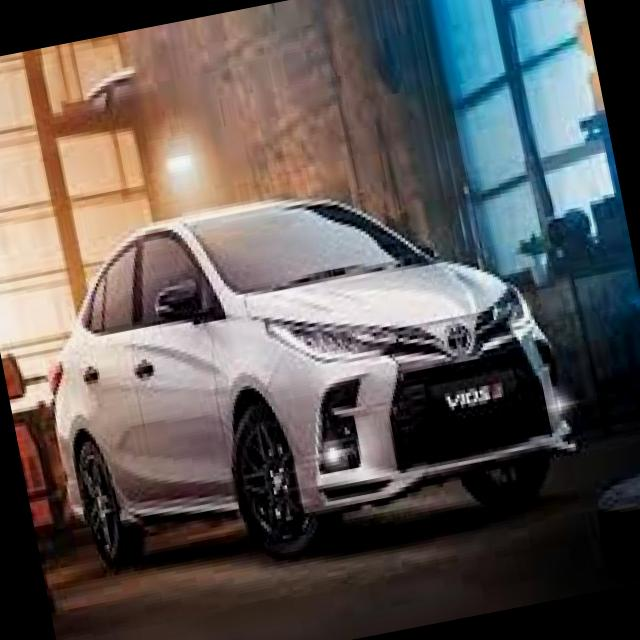ToyotaVios: (15, 145, 597, 598)
